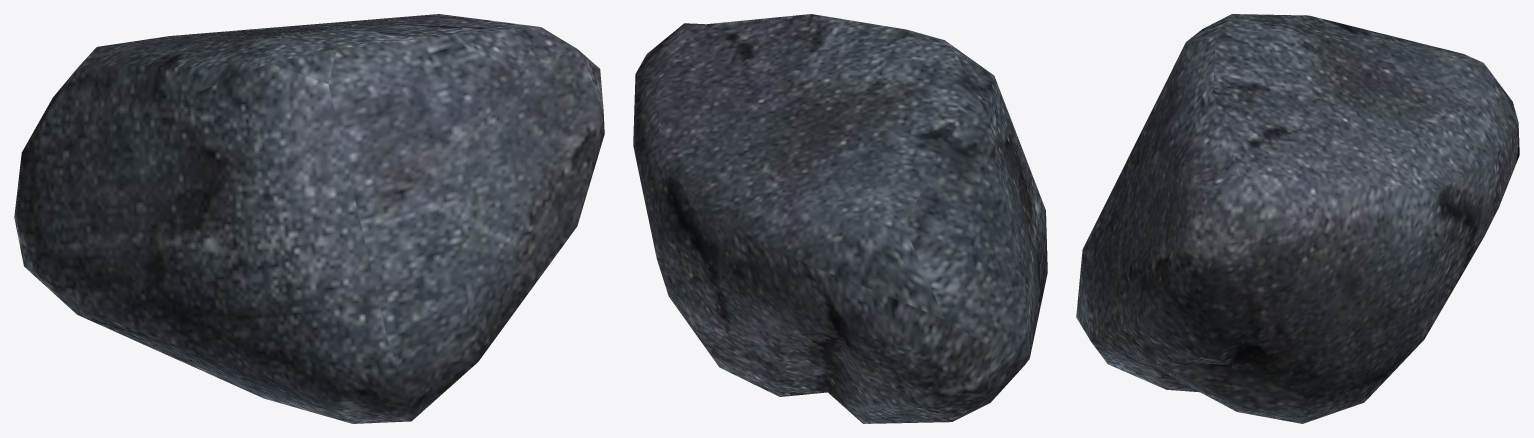
3 views of the same model, side by side, from view 1: azimuth 30°, elevation 25°; view 2: azimuth 150°, elevation 25°; view 3: azimuth 270°, elevation 25° (orthographic). The views are drawn at different scales.
Parts seen in each view (by area): view 1: rock052_lod4; view 2: rock052_lod4; view 3: rock052_lod4.
Boxes of the visible parts, x1=… form: rock052_lod4: x1=14, y1=14, x2=604, y2=423; rock052_lod4: x1=633, y1=14, x2=1047, y2=423; rock052_lod4: x1=1076, y1=14, x2=1519, y2=423.
Size of the model in its own units: 1 by 0.7342 by 0.8434.
1 material, 1 textured.
